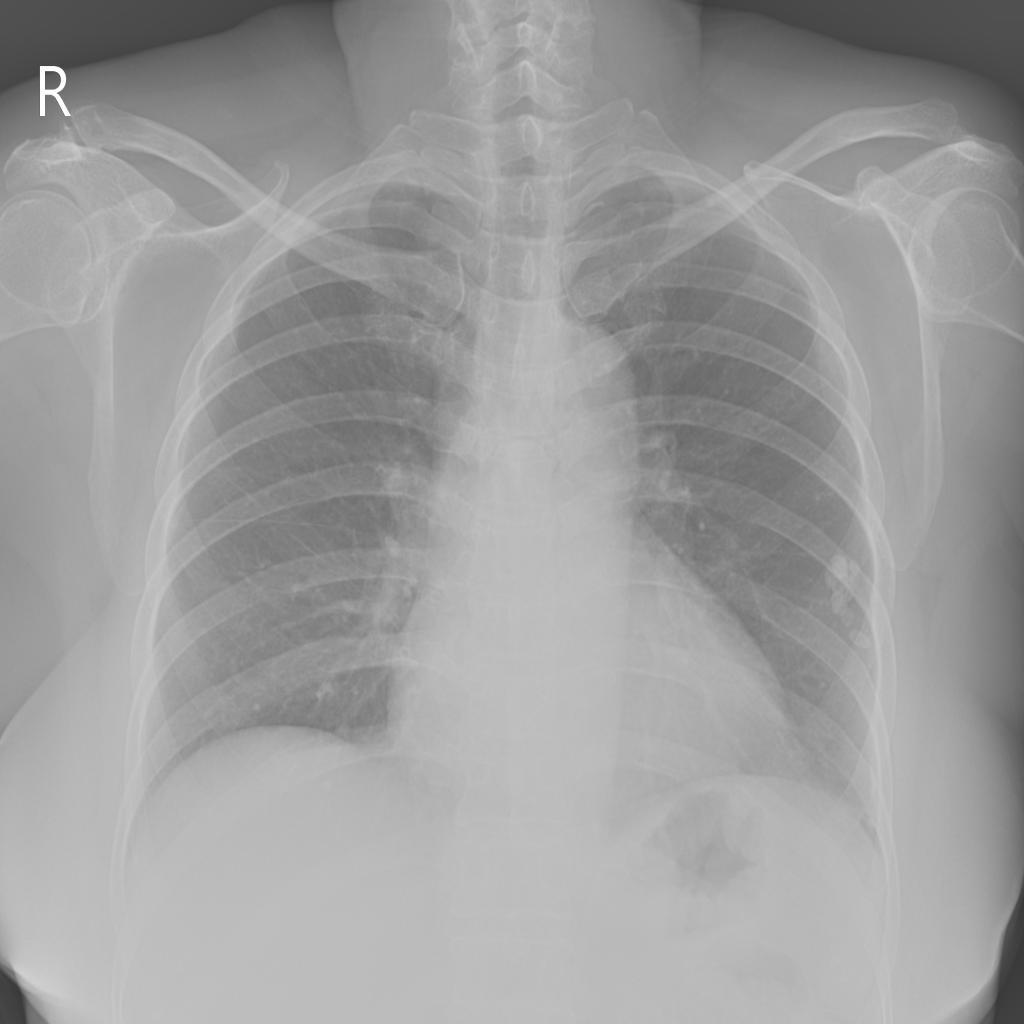Nodule: (827, 553, 871, 651)
